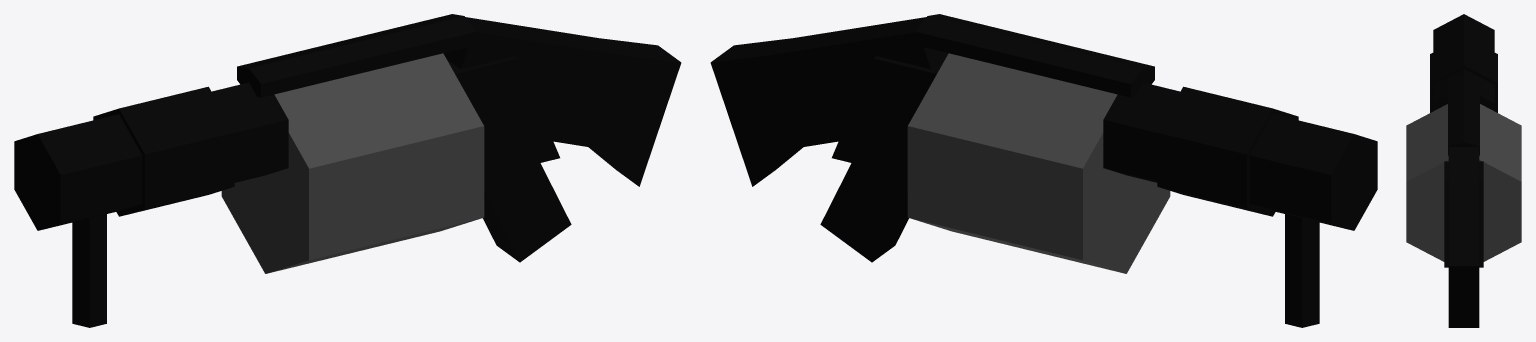
File: GrenadeLauncher.fbx
3 renders of one model, left to right at view 1: azimuth 30°, elevation 25°; view 2: azimuth 150°, elevation 25°; view 3: azimuth 270°, elevation 25°, orthographic. The views are drawn at different scales.
Visible parts, largest first — view 1: GrenadeLauncher; view 2: GrenadeLauncher; view 3: GrenadeLauncher.
Boxes of the visible parts, x1=… form: GrenadeLauncher: x1=14, y1=14, x2=681, y2=327; GrenadeLauncher: x1=710, y1=14, x2=1377, y2=327; GrenadeLauncher: x1=1406, y1=14, x2=1521, y2=327.
Bounding box in the file's own units: 101 × 38.01 × 24.25.
Materials: 1 (1 with a texture image).
